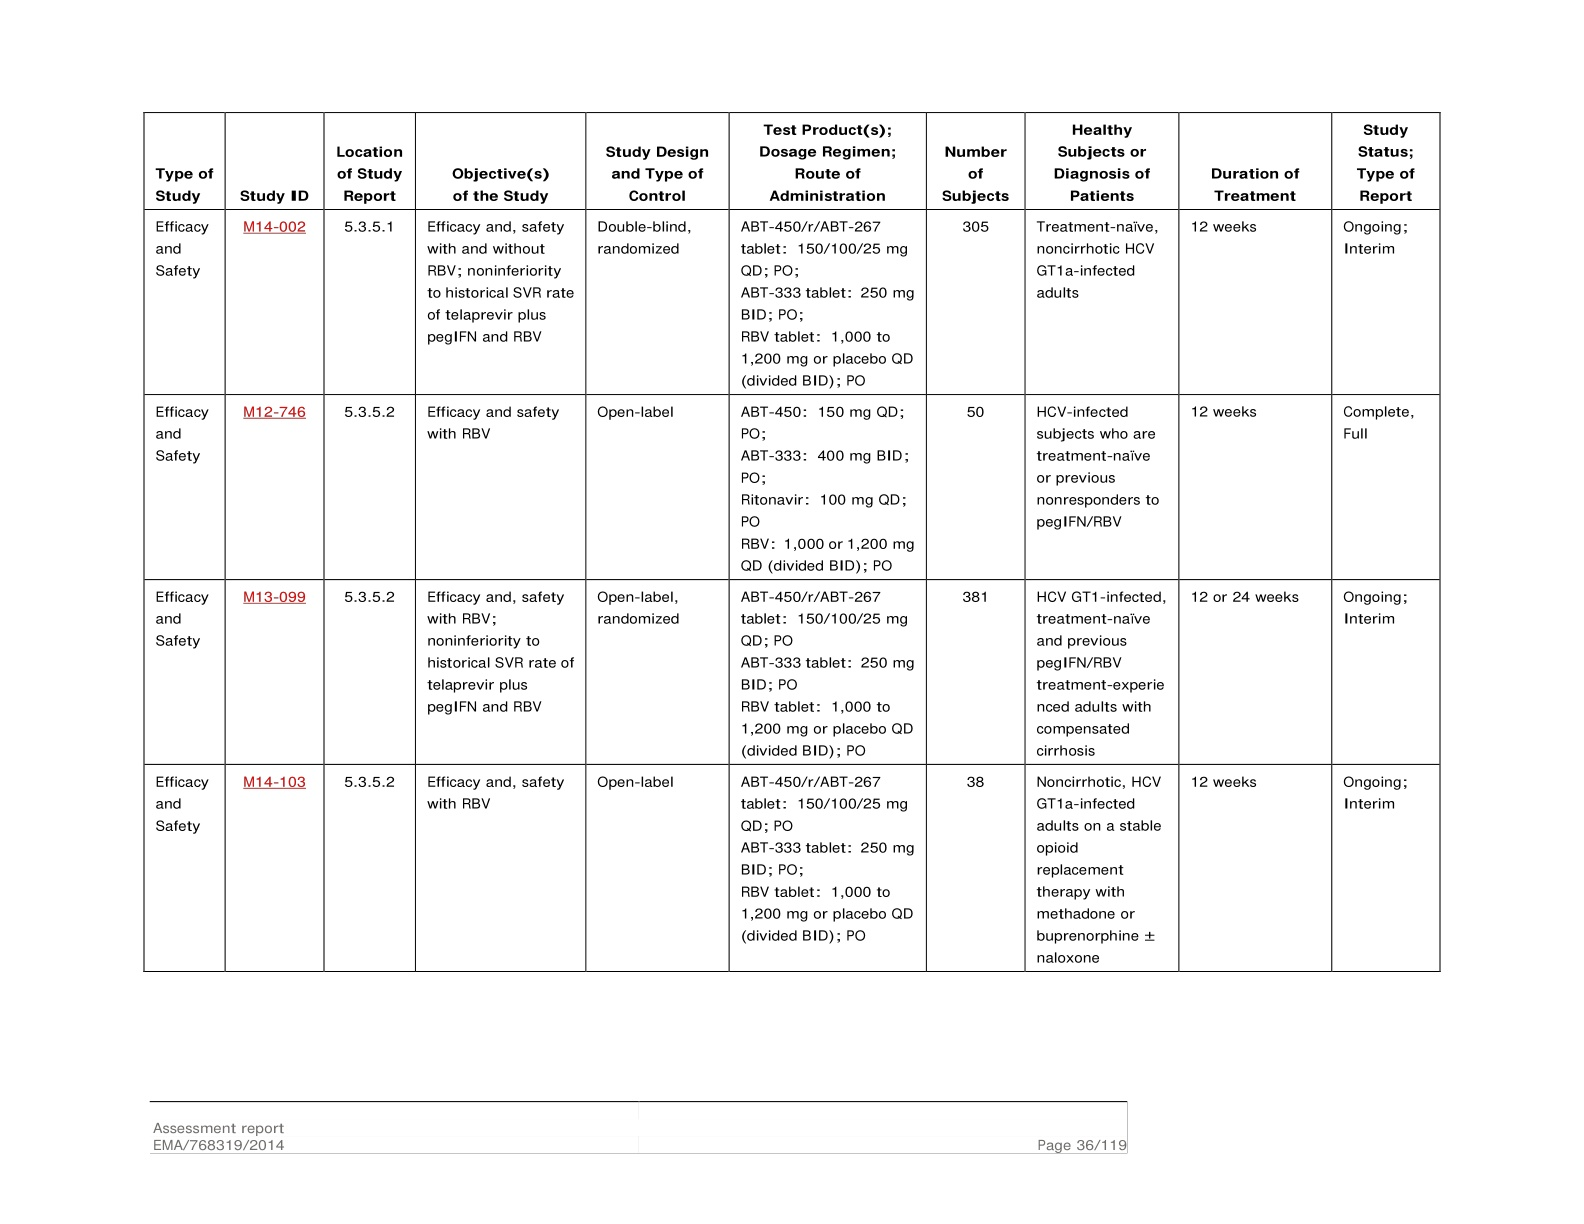full_lined: (143, 111, 1443, 973)
